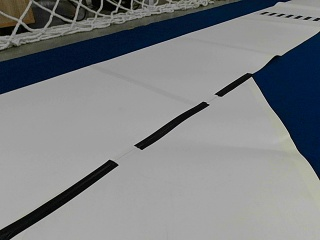crosswalk: (259, 10, 318, 21)
